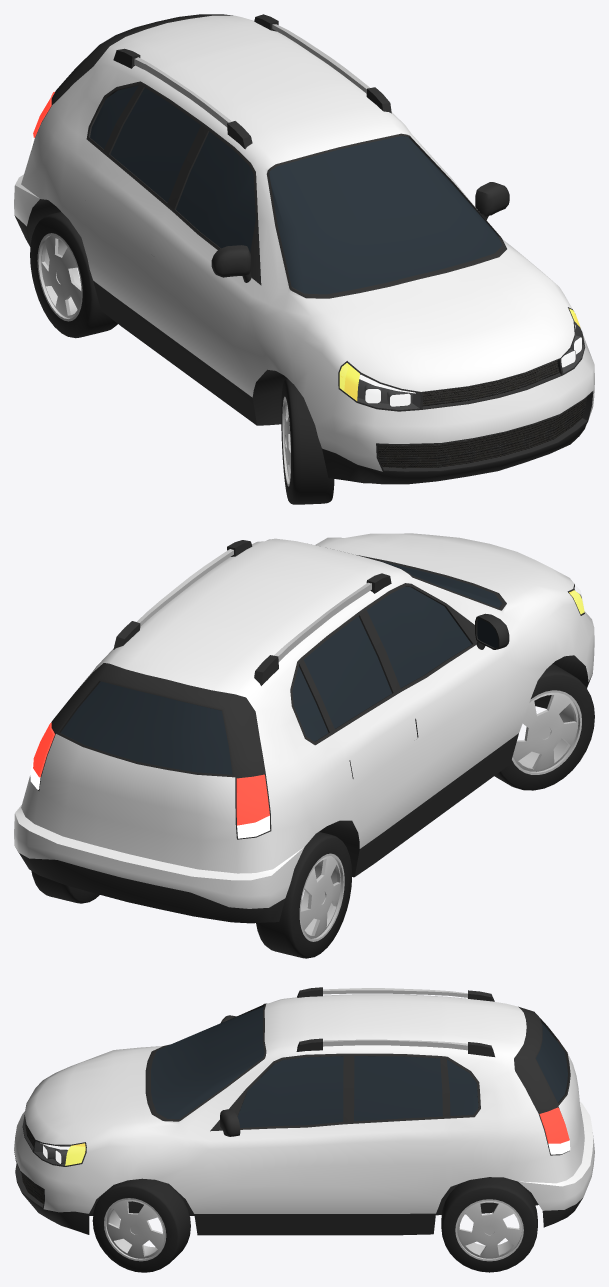
File: car-1.glb
3 views of the same model, one above another, from view 1: azimuth 30°, elevation 25°; view 2: azimuth 150°, elevation 25°; view 3: azimuth 270°, elevation 25° (orthographic). The views are drawn at different scales.
Visible parts, largest first — view 1: CarBody.001, Wheel.001, Wheel.002; view 2: CarBody.001, Wheel.002, Wheel.001, Wheel.003; view 3: CarBody.001, Wheel.003, Wheel.
Part boxes in pixels (x1,y1,x2,y2): CarBody.001: (14,14,594,484); Wheel.001: (30,212,117,338); Wheel.002: (281,378,334,504); CarBody.001: (14,533,594,923); Wheel.002: (494,663,594,790); Wheel.001: (256,832,352,958); Wheel.003: (31,871,99,903); CarBody.001: (14,987,594,1235); Wheel.003: (441,1177,537,1272); Wheel: (92,1178,190,1272).
Size of the model in its own units: 2.02 by 1.79 by 4.45.
10 materials, 1 textured.
